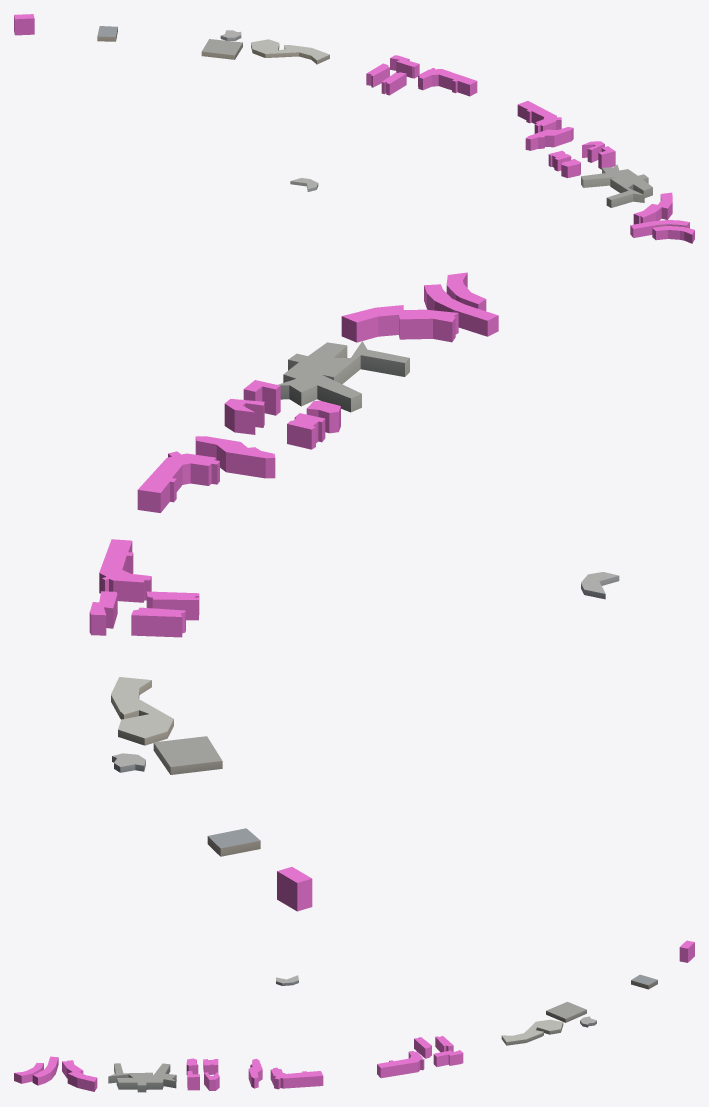
File: bld_6_5.fbx
3 renders of one model, top to bottom at view 1: azimuth 30°, elevation 25°; view 2: azimuth 150°, elevation 25°; view 3: azimuth 270°, elevation 25°, orthographic. The views are drawn at different scales.
Parts seen in each view (by area): view 1: bld_6_5_COL, bld_6_5_LOD0; view 2: bld_6_5_COL, bld_6_5_LOD0; view 3: bld_6_5_COL, bld_6_5_LOD0.
Part boxes in pixels (x1,y1,x2,y2): bld_6_5_COL: [14, 14, 694, 243]; bld_6_5_LOD0: [97, 26, 685, 226]; bld_6_5_COL: [89, 272, 498, 911]; bld_6_5_LOD0: [111, 341, 619, 856]; bld_6_5_COL: [14, 940, 694, 1091]; bld_6_5_LOD0: [108, 974, 657, 1092].
Size of what is drawn, in the model's own units: 980 by 47.24 by 2047.
